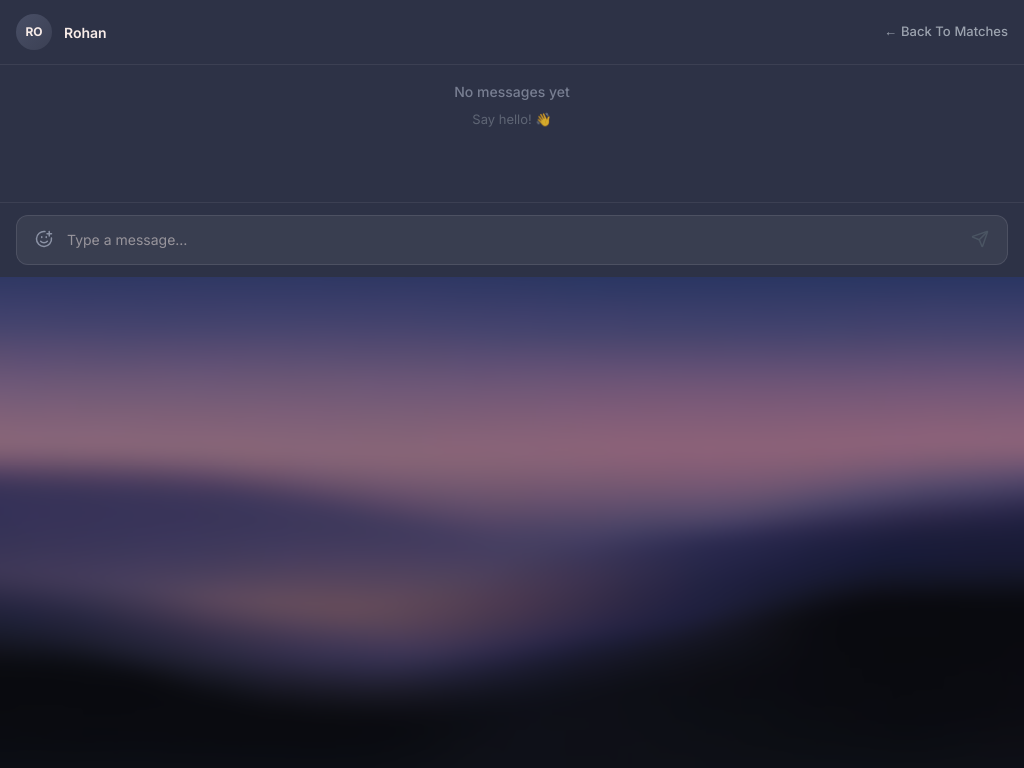
Test: ChatWindow Optimistic UI › should optimistically render a message and reconcile with server echo
Expected: the text "No messages yet" is shown, [454, 81, 570, 102]
// Find input and type a message
Type "Hello World" into the text box with placeholder "Type a message…".
click(512, 240); type("Hello World")  # box [67, 225, 957, 256]
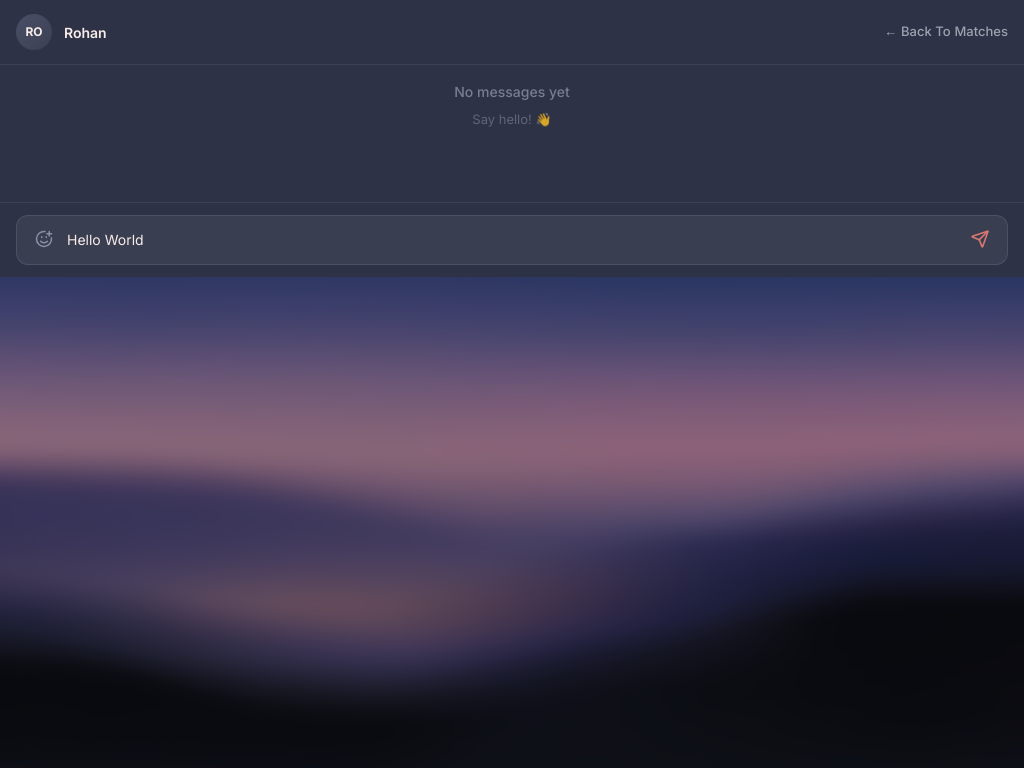
Press Enter in the text box with placeholder "Type a message…", box [67, 225, 957, 256]
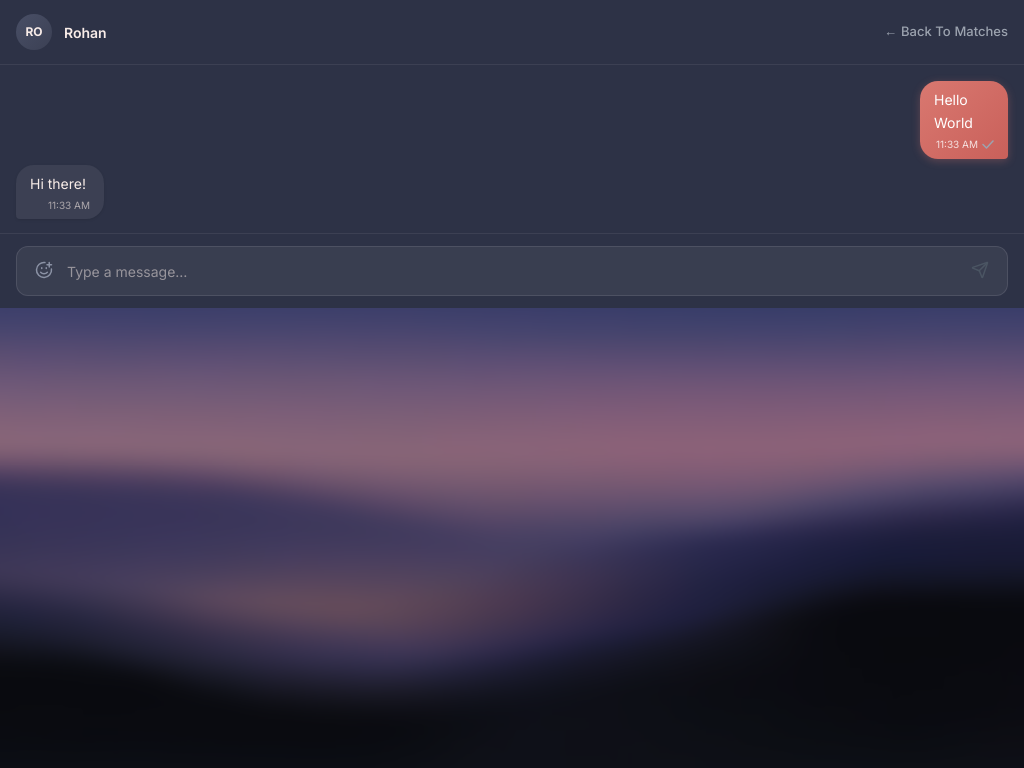
Result: the text "Hello World" is shown once at [934, 91, 973, 131]
Result: the text "Hi there!" is shown at [30, 172, 90, 195]
